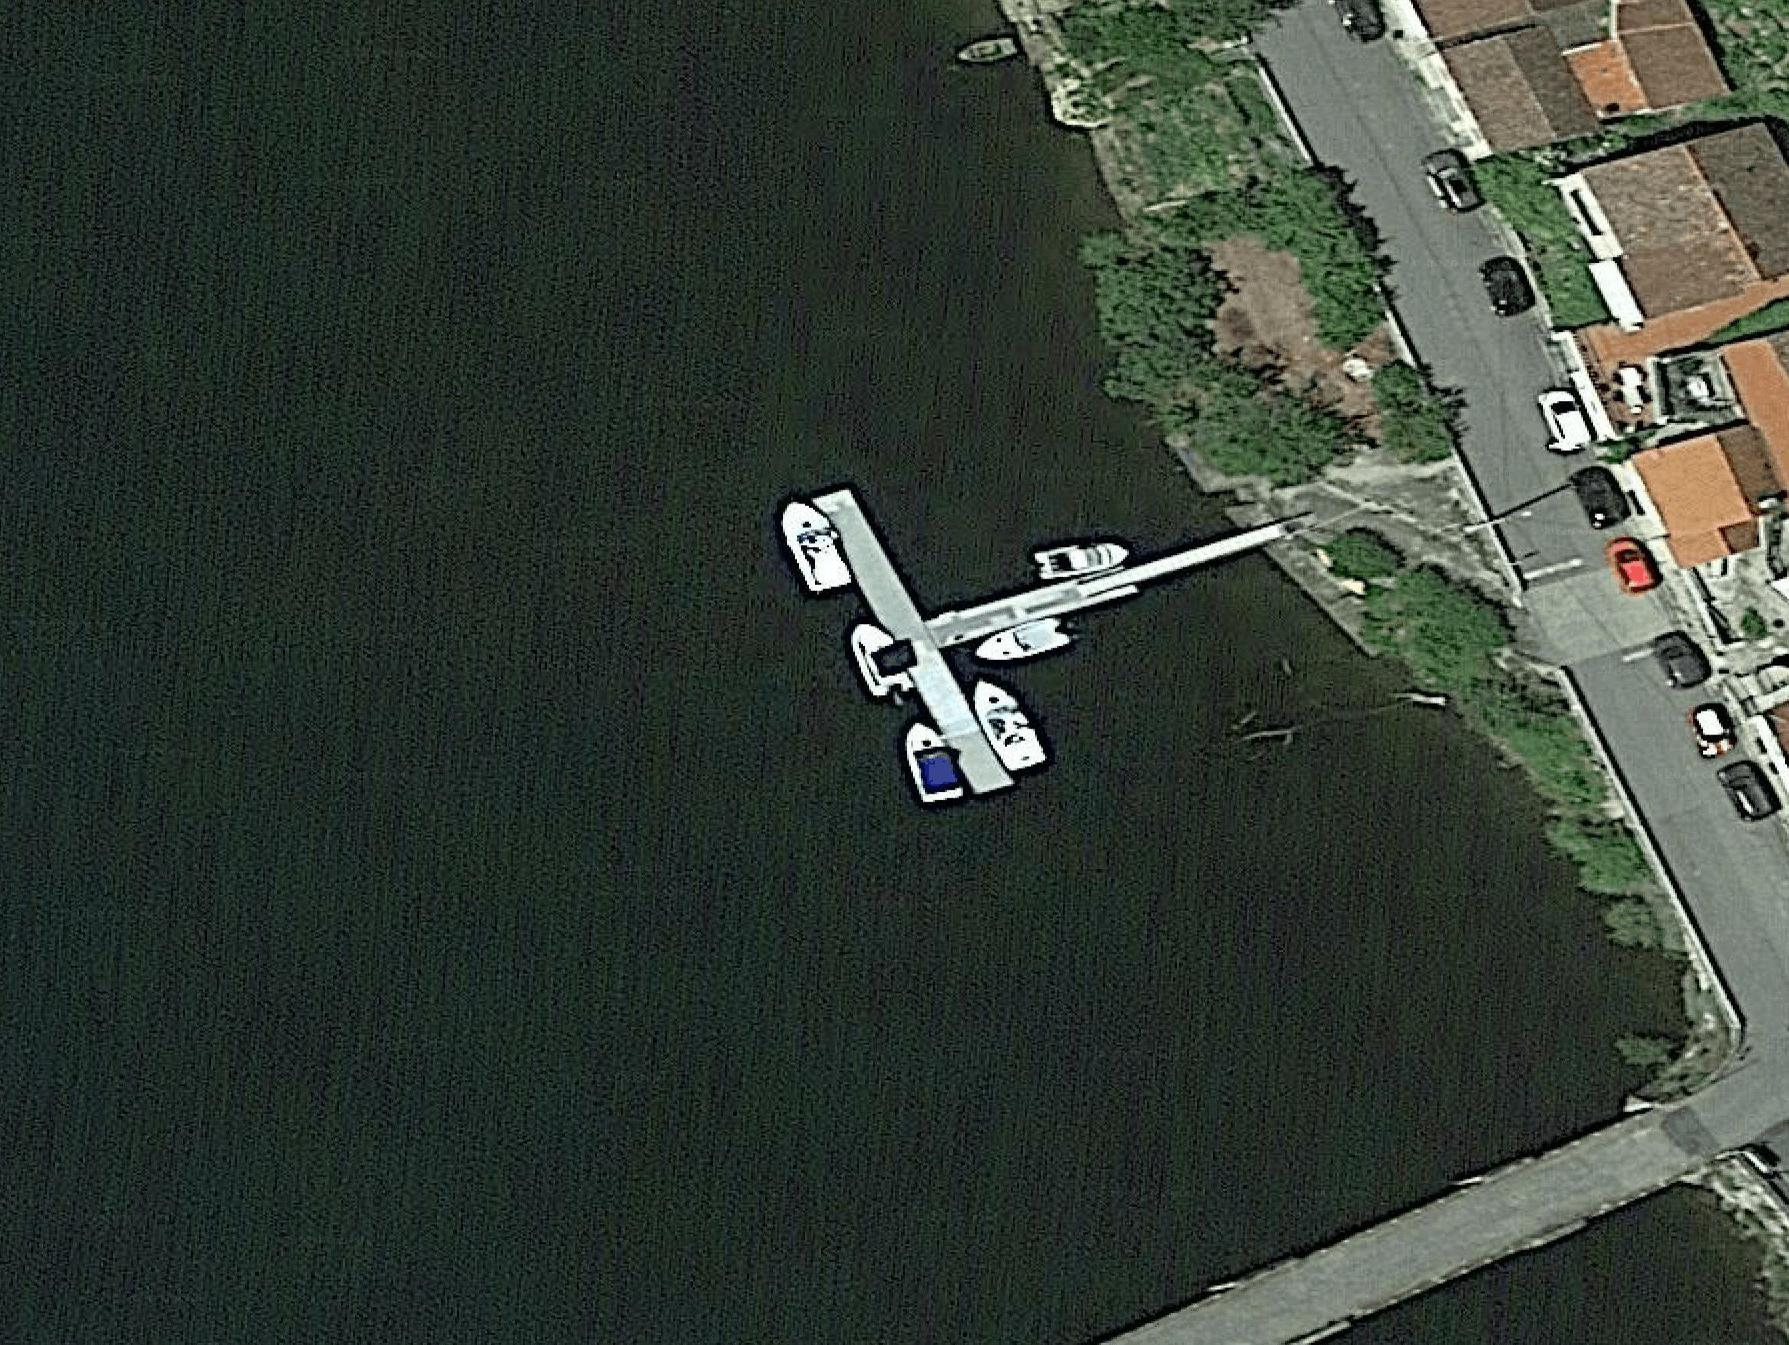harbor: (755, 444, 1280, 781)
large-vehicle: (1539, 383, 1588, 454)
ship: (960, 670, 1056, 778), (770, 492, 859, 599), (967, 610, 1077, 674), (1032, 530, 1132, 586), (957, 38, 1019, 66)
small-vehicle: (1422, 146, 1481, 216), (1571, 466, 1626, 534), (1477, 254, 1530, 321), (1608, 535, 1659, 593), (1689, 705, 1734, 762)
